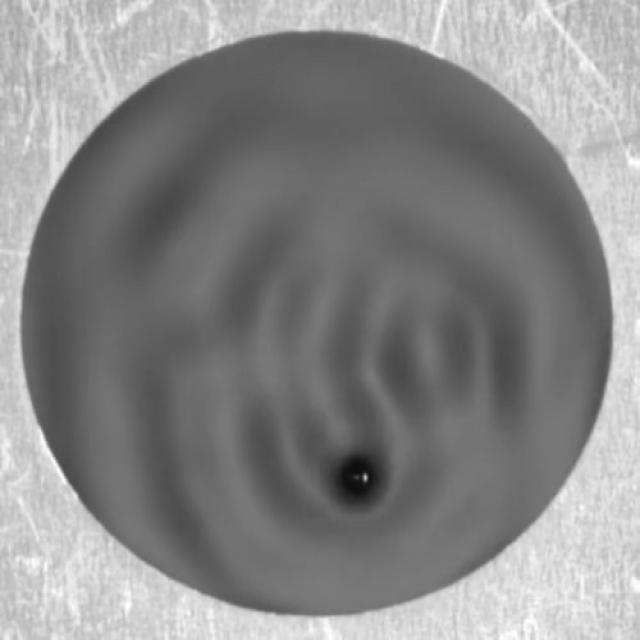droplet: (344, 461, 374, 496)
